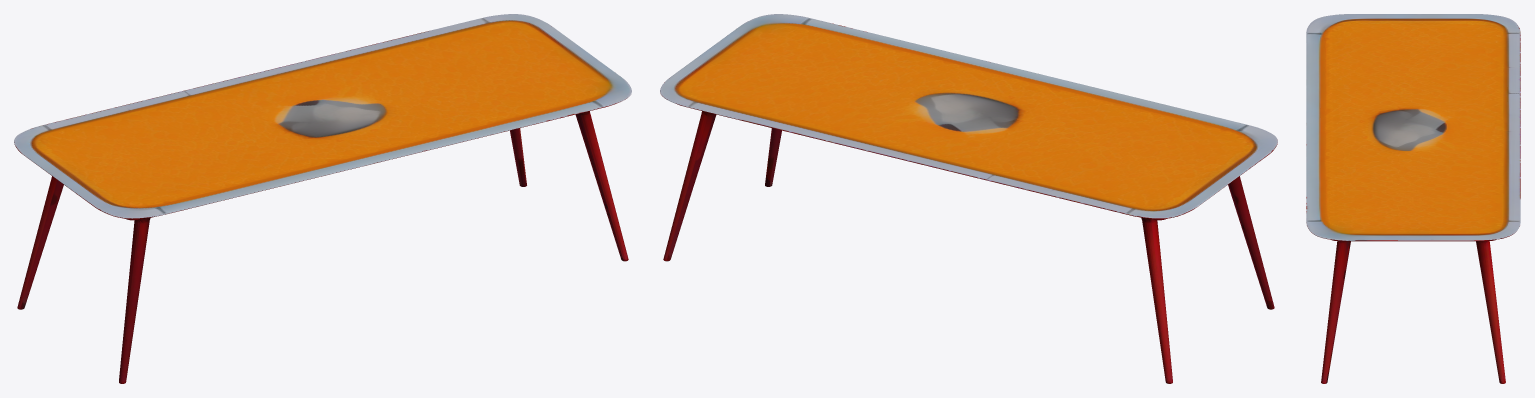
The model's file is edited_mesh.glb.
3 renders of one model, left to right at view 1: azimuth 30°, elevation 25°; view 2: azimuth 150°, elevation 25°; view 3: azimuth 270°, elevation 25°, orthographic. The views are drawn at different scales.
Visible parts, largest first — view 1: normalized_model.obj; view 2: normalized_model.obj; view 3: normalized_model.obj.
Boxes of the visible parts, box(x1,y1,x2,y2) form: normalized_model.obj: box(14, 14, 631, 383); normalized_model.obj: box(660, 14, 1277, 383); normalized_model.obj: box(1306, 14, 1520, 383).
Bounding box in the file's own units: 2 × 0.6096 × 0.8.
Materials: 1 (1 with a texture image).
